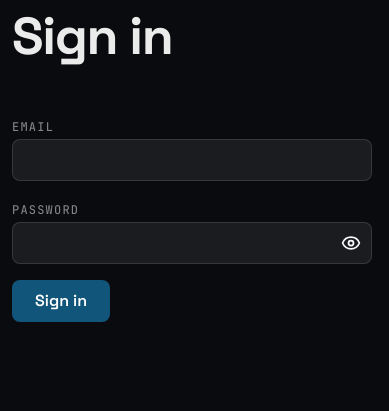
Test: LoginForm › shouldShowTheServersRefusalAndNotAuthenticateOnInvalidCredentials
Step 1. Type "user@example.com" into the field labelled "Email" → [192, 160], box 12,139 -> 372,181
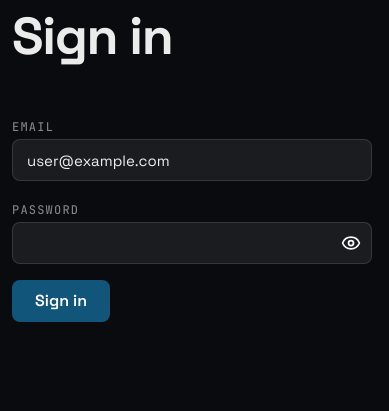
Step 2. Type "correct horse battery staple" into the password field labelled "Password" → [192, 243], box 13,223 -> 371,263
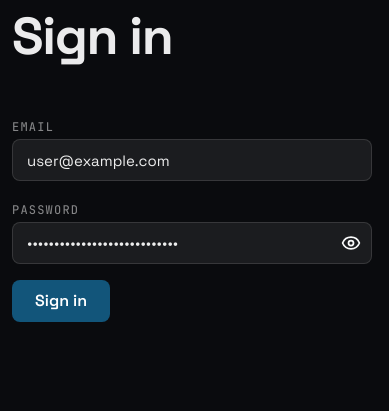
Step 3. Click the button "Sign in" → [61, 301], box 12,280 -> 110,322
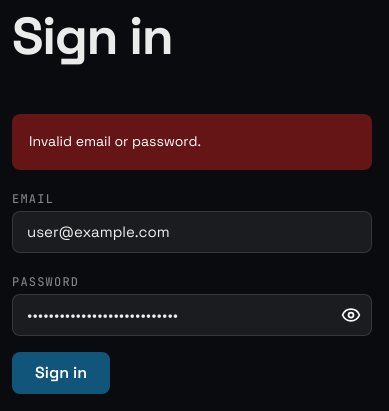
Expected: the message reads "Invalid email or password.", 29,132 -> 201,150
